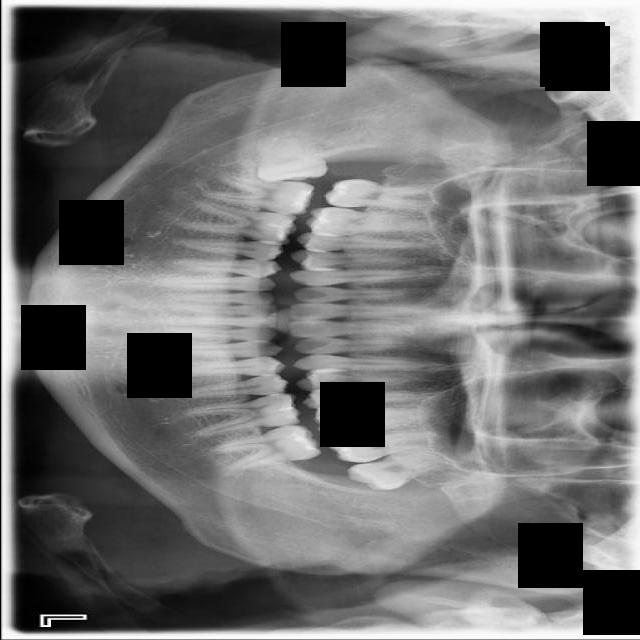52: (252, 390, 301, 432), (243, 210, 297, 246)
73: (53, 595, 66, 601)
BioHorizons Implant: (326, 430, 445, 464)
BioLife Implant: (345, 438, 456, 501)
Blue Sky Bio Implant: (208, 420, 321, 477)
Caries: (324, 178, 436, 207)
Implant: (200, 171, 315, 217)
Keystone Dental Implant: (254, 133, 329, 183)
